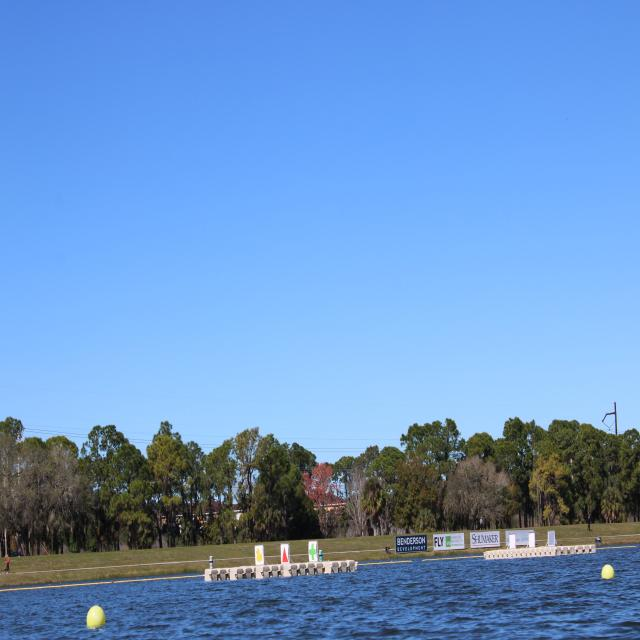blue-cross: (306, 536, 319, 564)
red-dot: (280, 542, 290, 566)
yellow-buoy: (86, 607, 104, 632), (601, 564, 615, 580)
yellow-duck: (253, 545, 264, 567)
